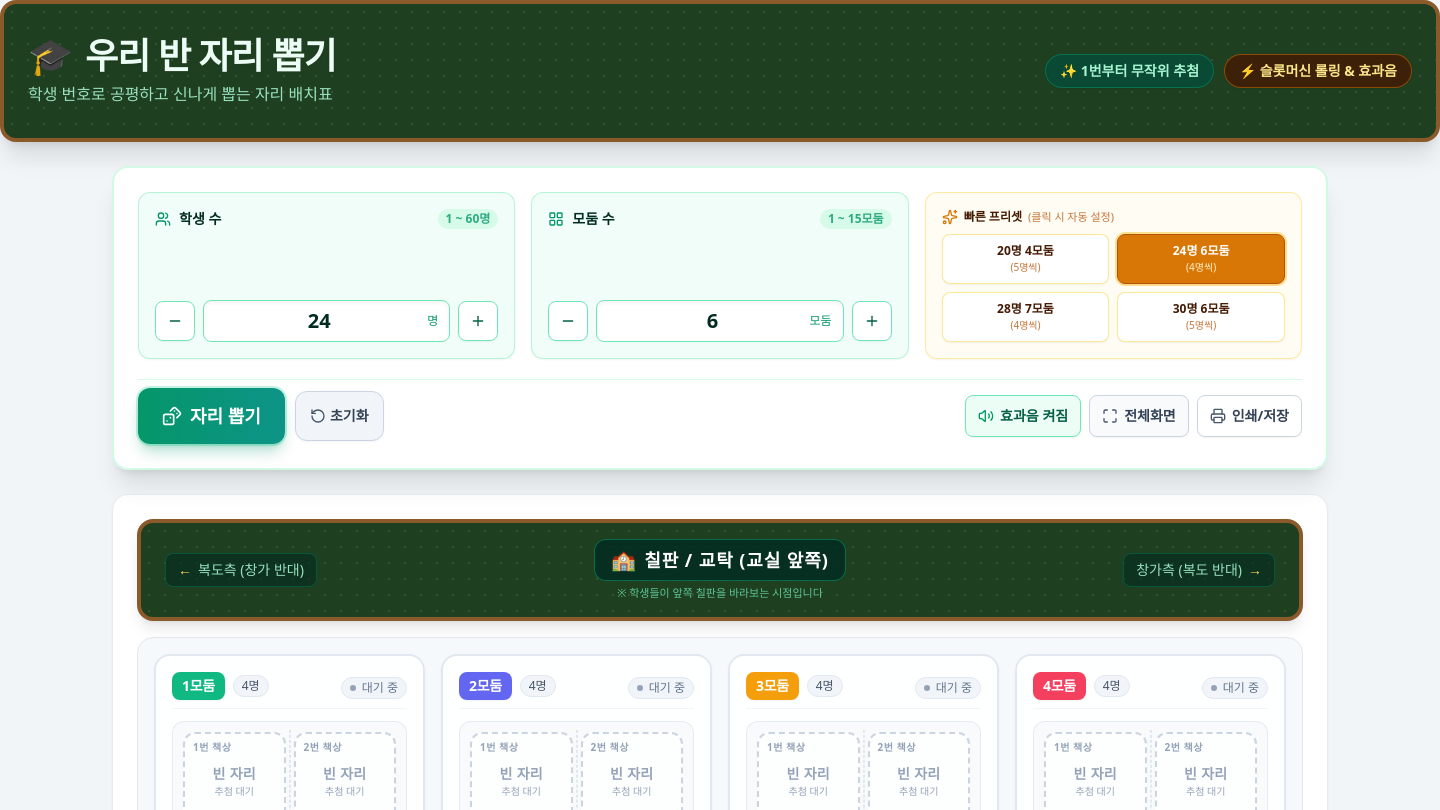
Test case: App Integration › resets state when reset button is clicked
Click the button "자리 뽑기" at (211, 416), box [138,388,285,444]
Wait 5000 ms
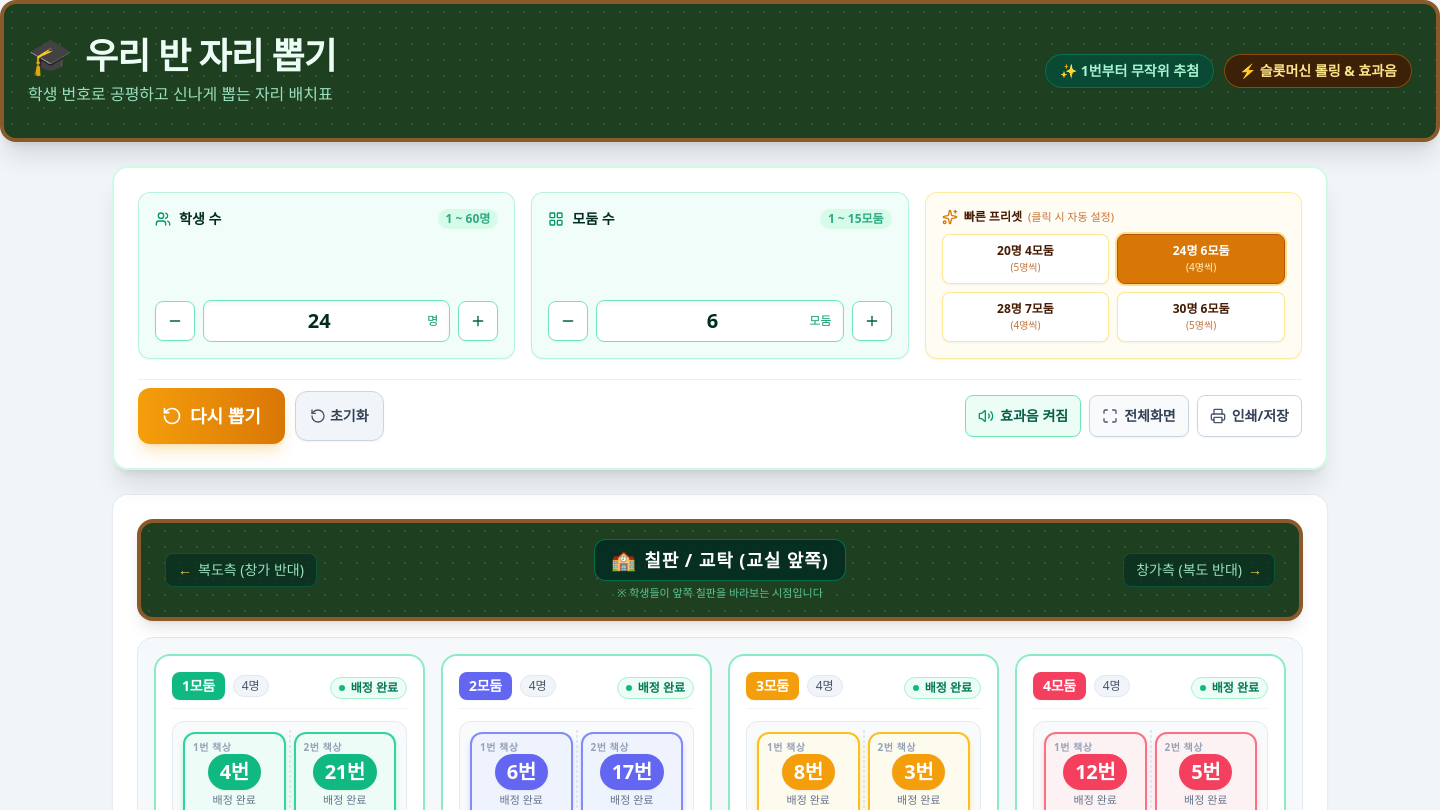
Click the button "초기화" at (339, 416), box [295,390,384,440]
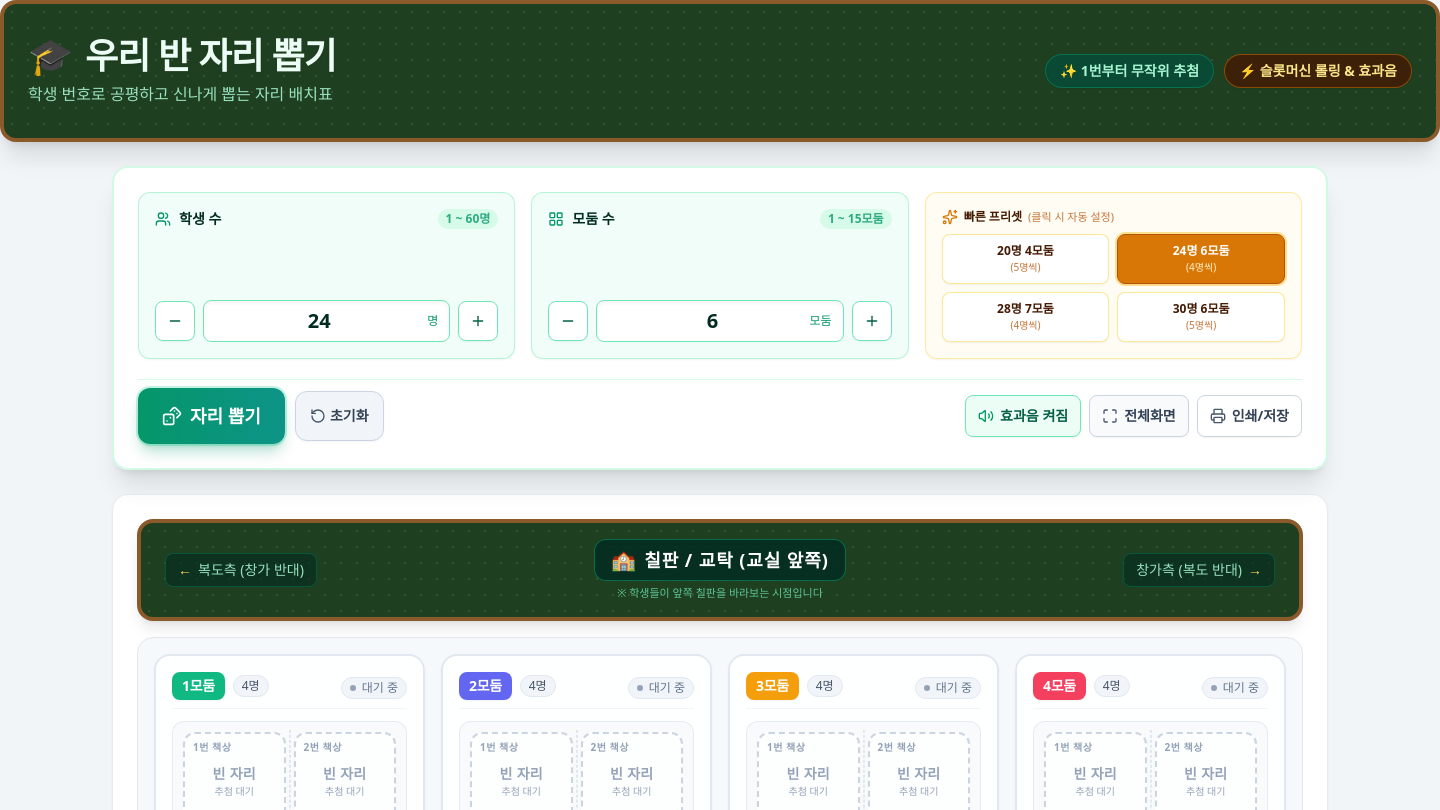
Expected: the button "자리 뽑기" is shown, [138,388,285,444]
